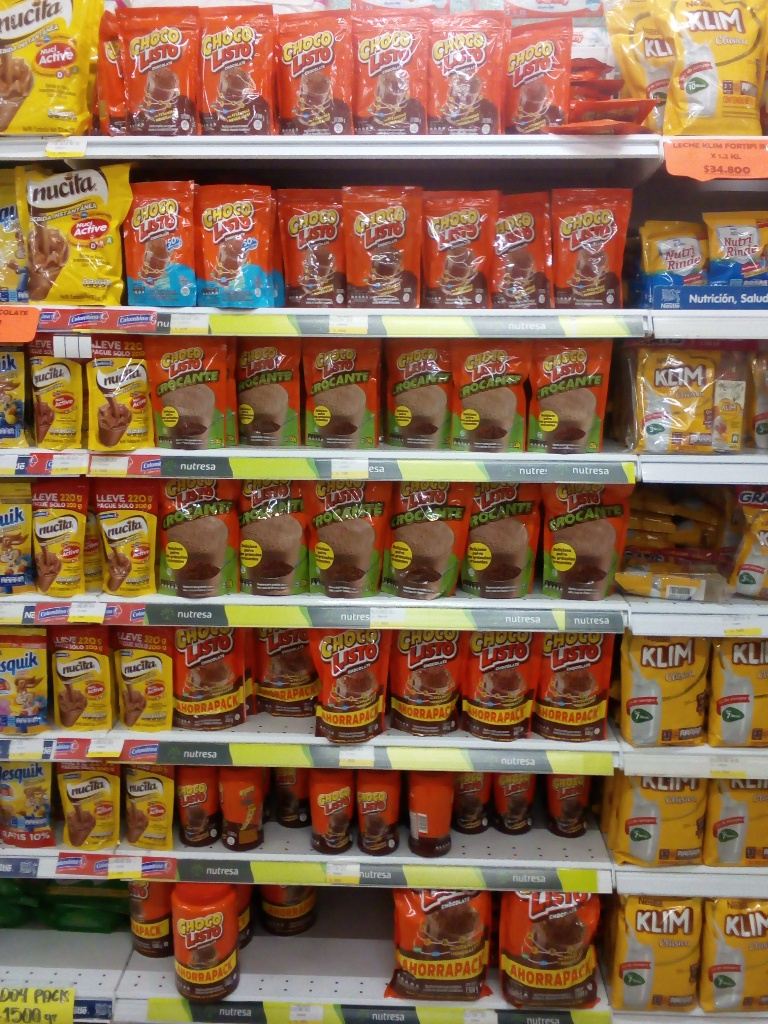COL0170102DYP25000: (153, 334, 235, 453)
COL0170102DYP50000: (161, 478, 243, 600)
COL0170103DYP1,500: (397, 883, 504, 1003)
COL0170103DYP20000: (120, 7, 201, 137)
COL0170103DYP40000: (173, 627, 249, 730)
COL0170103TRR00100: (175, 883, 244, 998)
COL0170103TRR30000: (177, 767, 220, 847)
COL0170104DYP20000: (130, 182, 196, 310)
COL0170303DYP20000: (2, 483, 36, 600)
